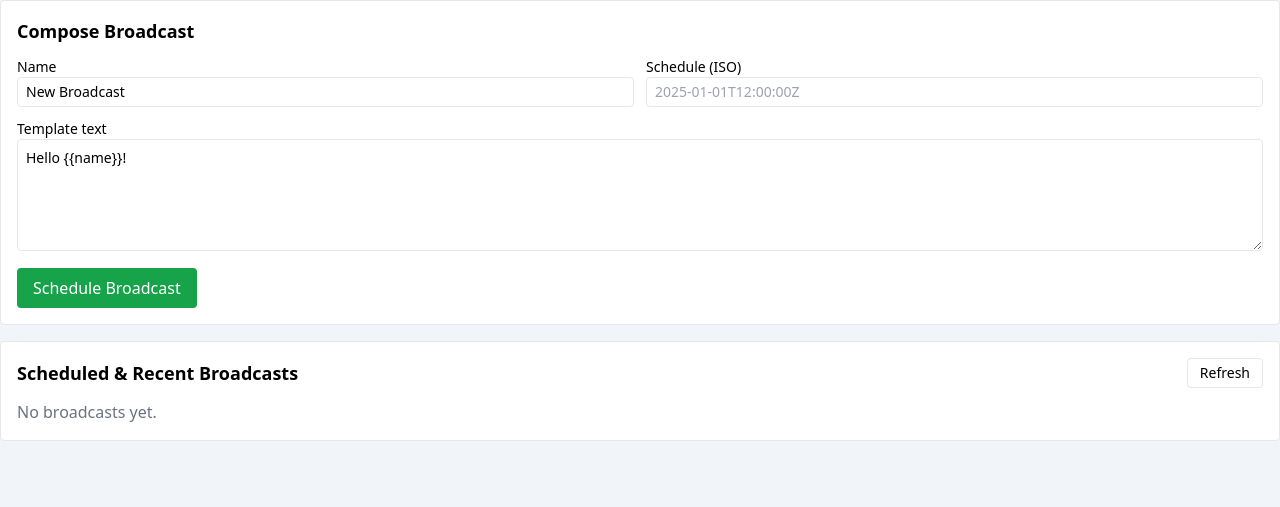
BroadcastsPage › handles create broadcast and refresh
Replace the text in the field labelled "Name" with "New Campaign": [326, 92] box [17,77,634,107]
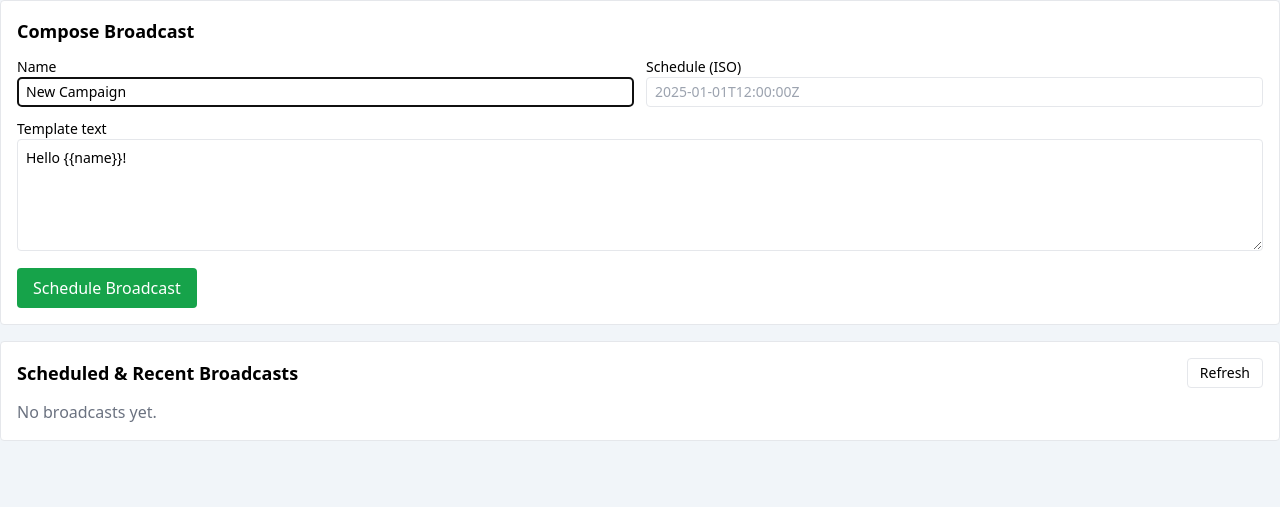
Replace the text in the text box labelled "Template text" with "Hello": [640, 195] box [17,139,1263,251]
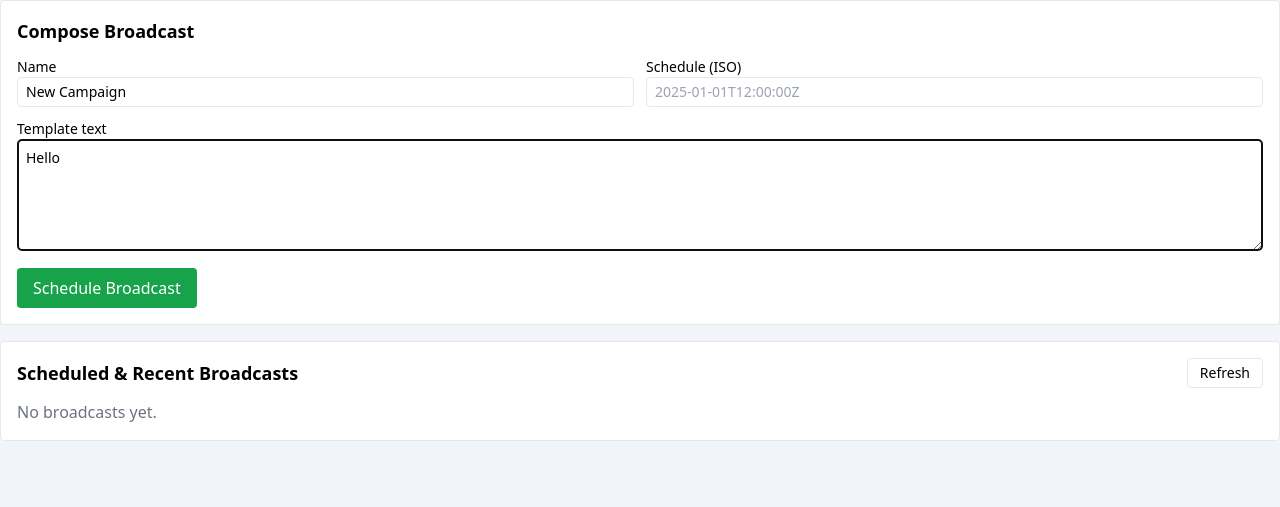
Click the button "Schedule Broadcast": [107, 288] box [17,268,197,308]
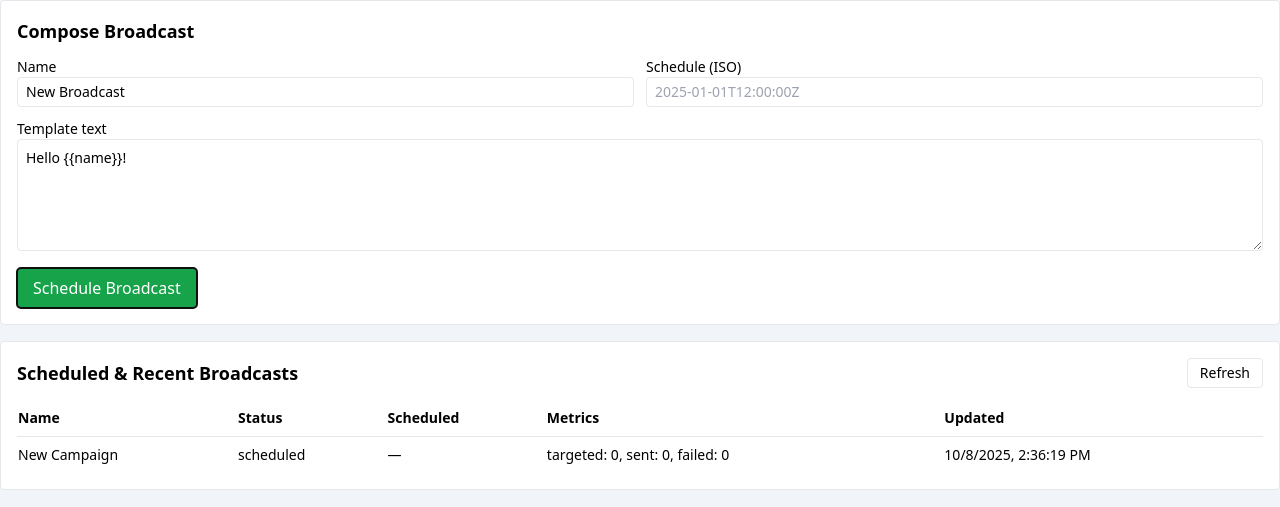
Expected: the text "New Campaign" is shown, [17,436,237,473]
